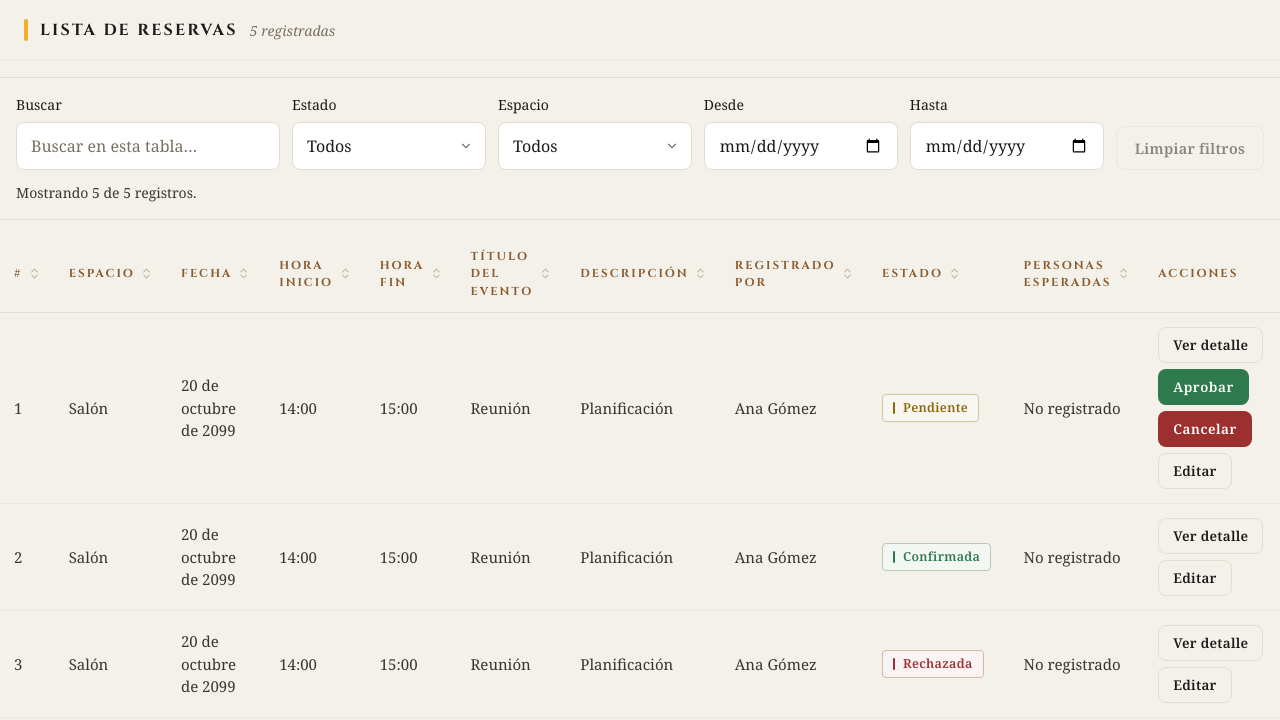
integración de reservas, estados y edición › cancela desde el modal solo con confirmación y conserva errores
Click the button "Editar" below "Pendiente": (1195, 471) x1=1158 y1=453 x2=1232 y2=489
(page scrolled)
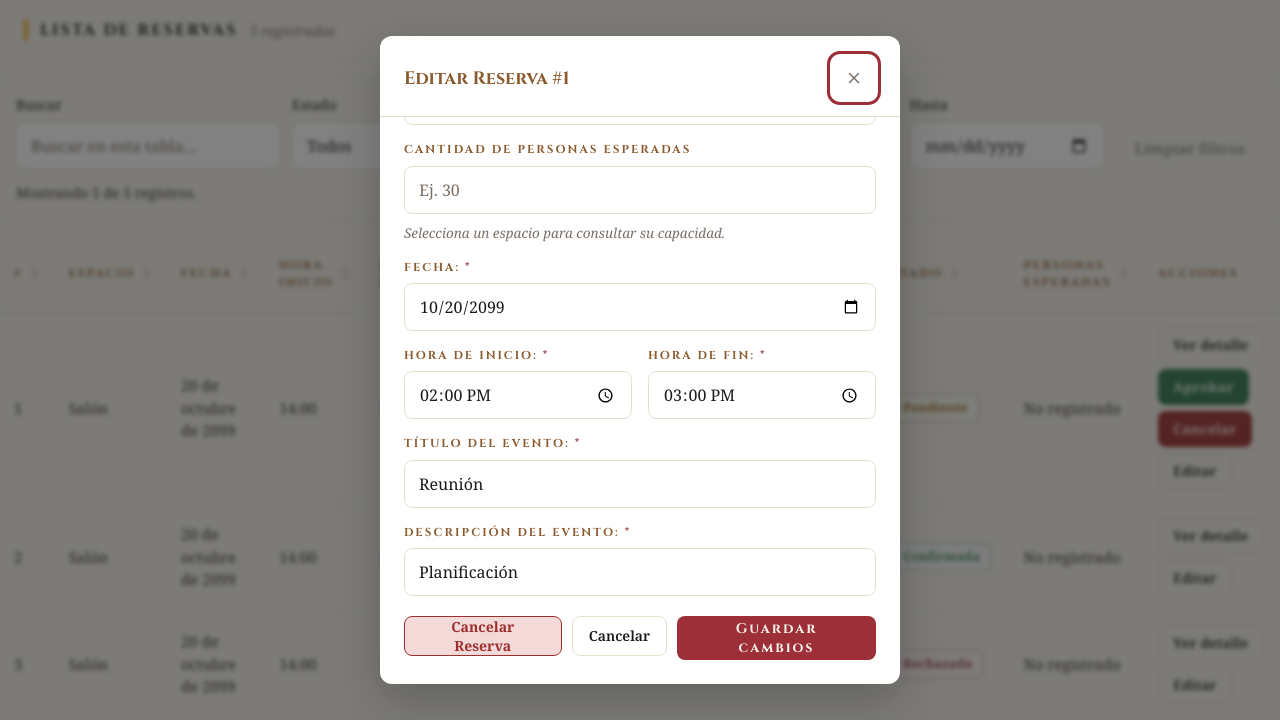
Click the button "Cancelar Reserva": (483, 636) x1=404 y1=616 x2=562 y2=656
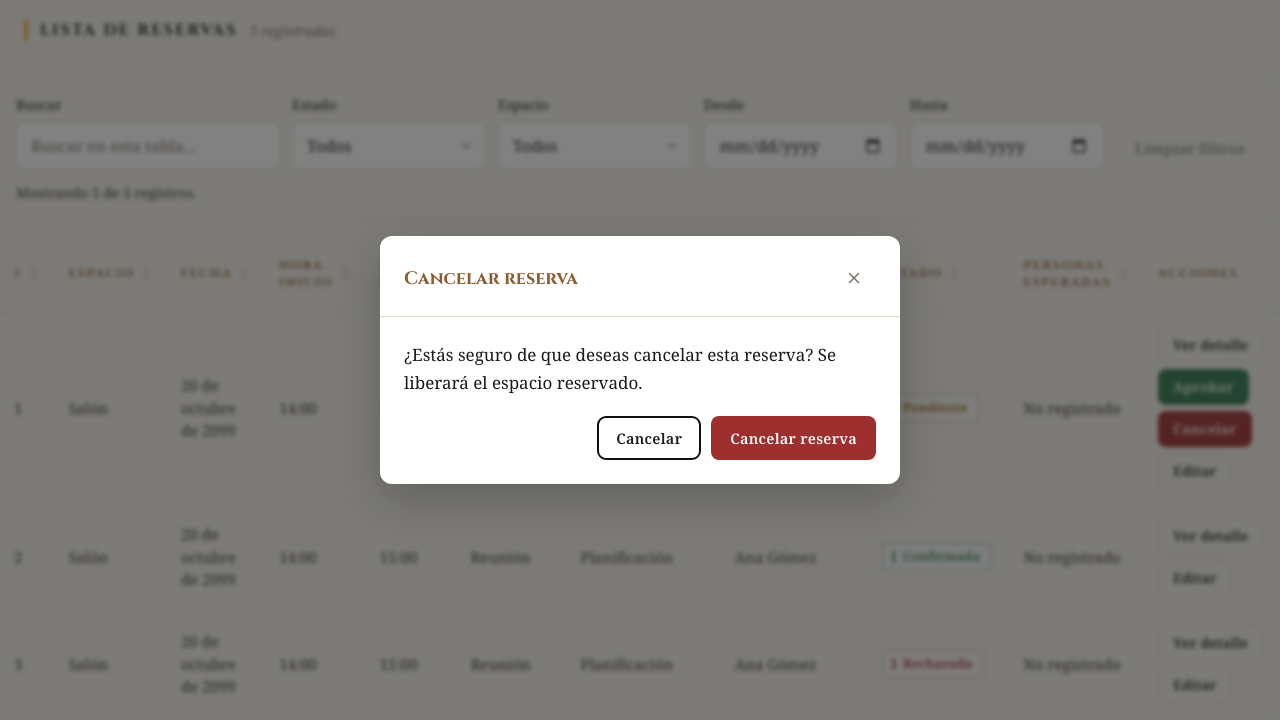
Click the button "Cancelar": (649, 438) x1=597 y1=416 x2=701 y2=460
(page scrolled)
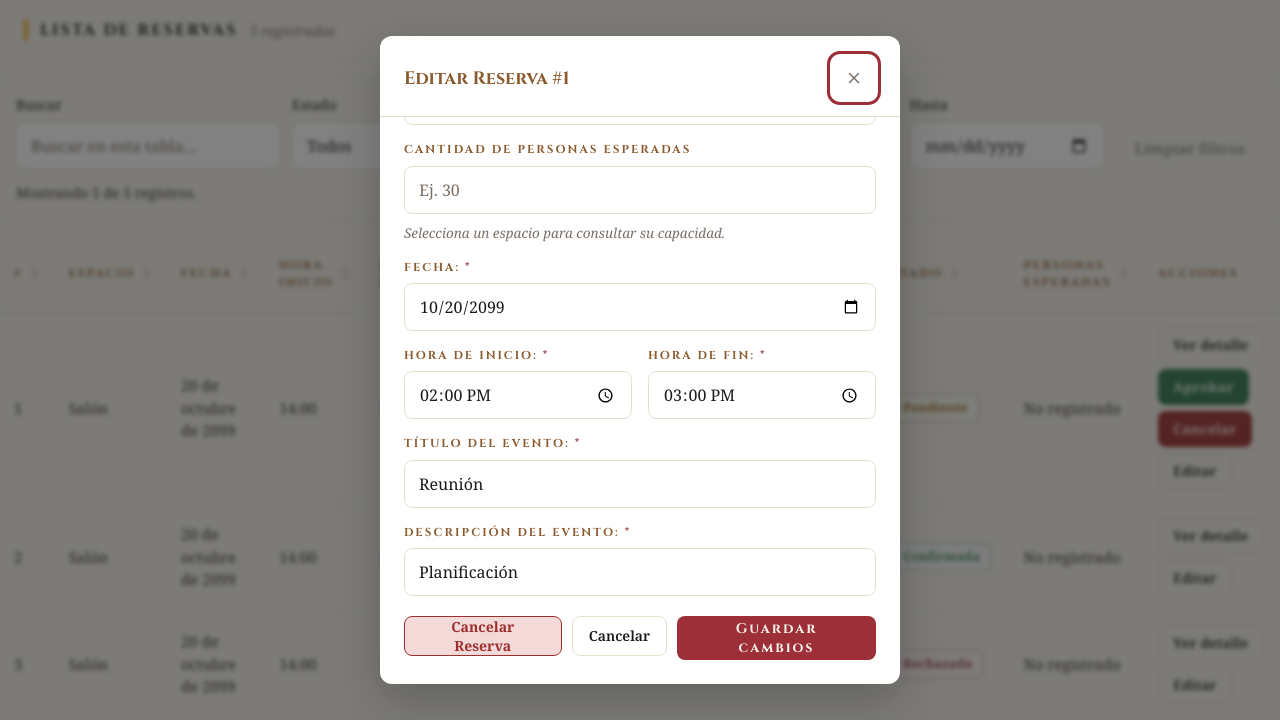
expect the heading "Editar Reserva #1" is shown: met, box x1=404 y1=66 x2=570 y2=90
Click the button "Cancelar Reserva": (483, 636) x1=404 y1=616 x2=562 y2=656
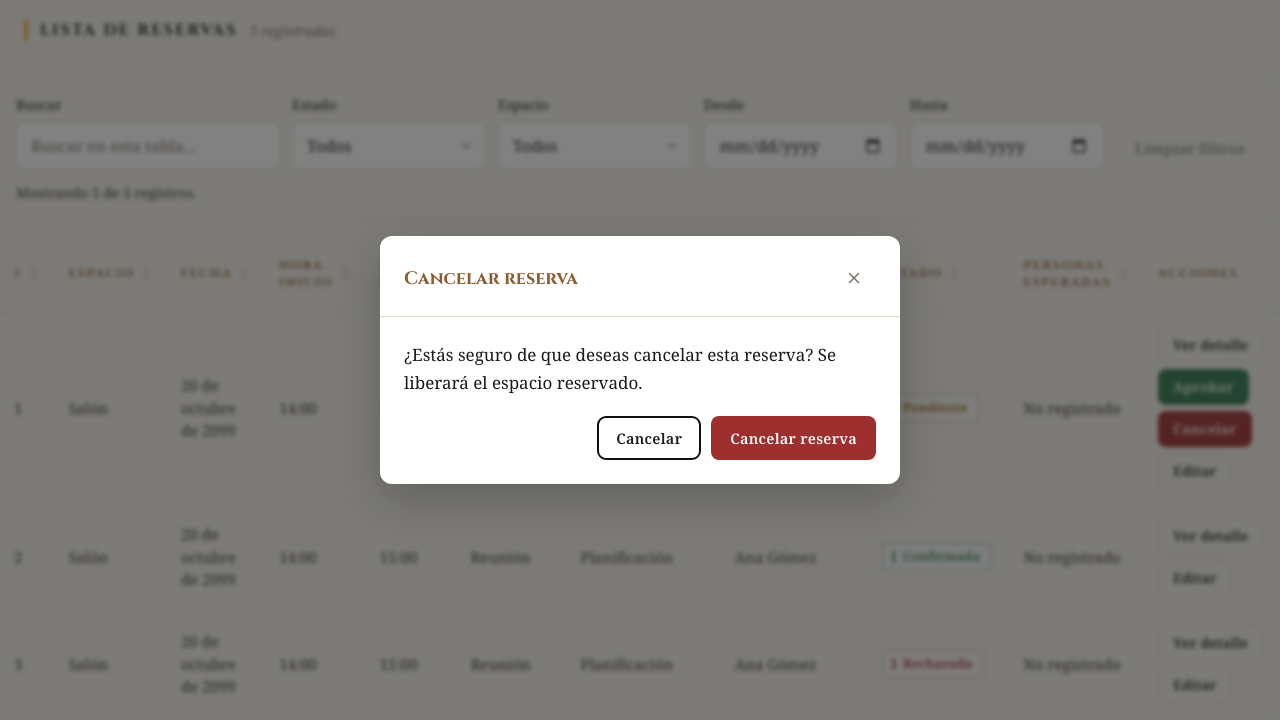
Click the button "Cancelar reserva": (794, 438) x1=711 y1=416 x2=876 y2=460
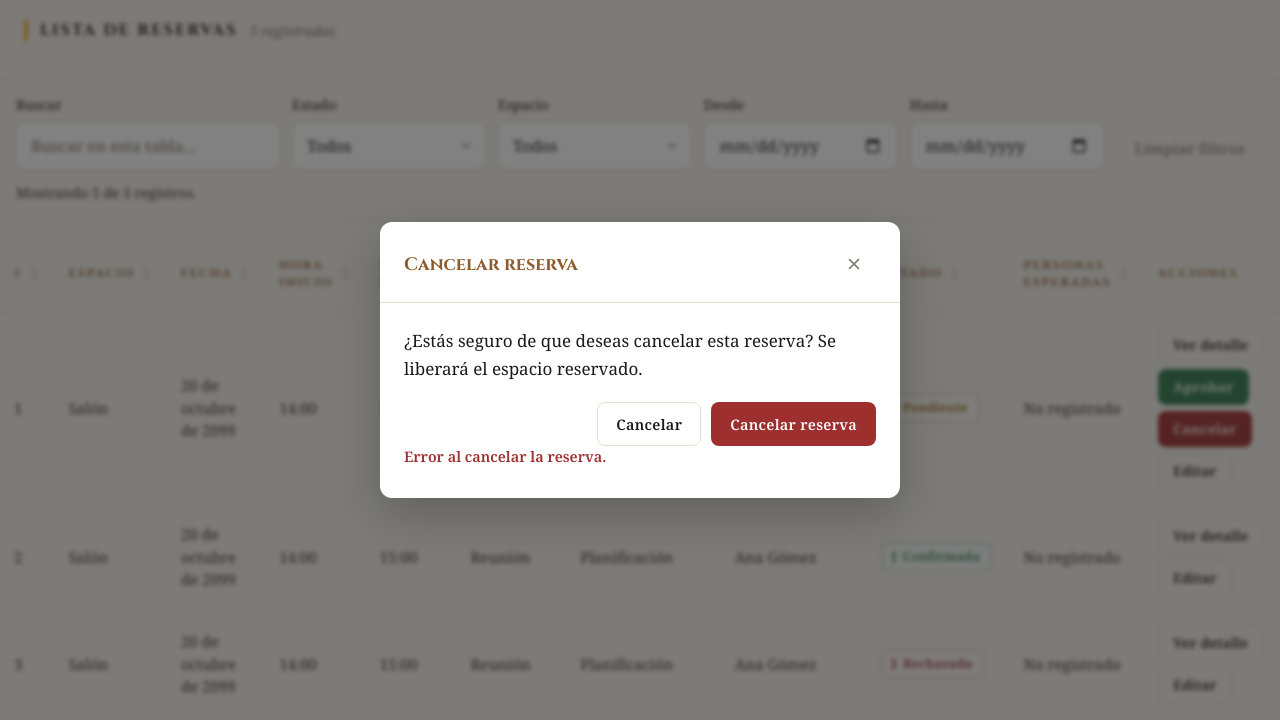
expect the text "Error al cancelar la reserva." is shown: met, box x1=404 y1=446 x2=606 y2=466
